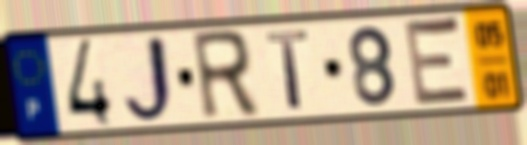4: (61, 35, 118, 131)
8: (346, 22, 400, 110)
E: (402, 14, 475, 110)
J: (120, 32, 181, 128)
R: (188, 27, 264, 125)
T: (262, 27, 312, 114)
